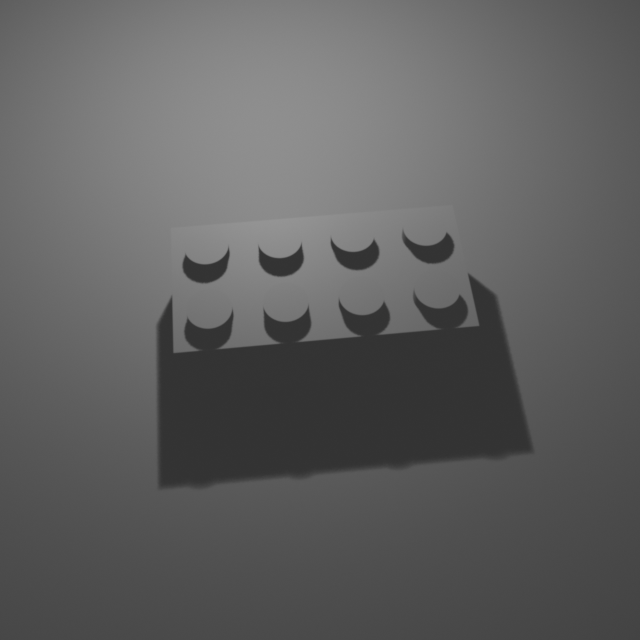lego_2x4: (169, 196, 482, 393)
